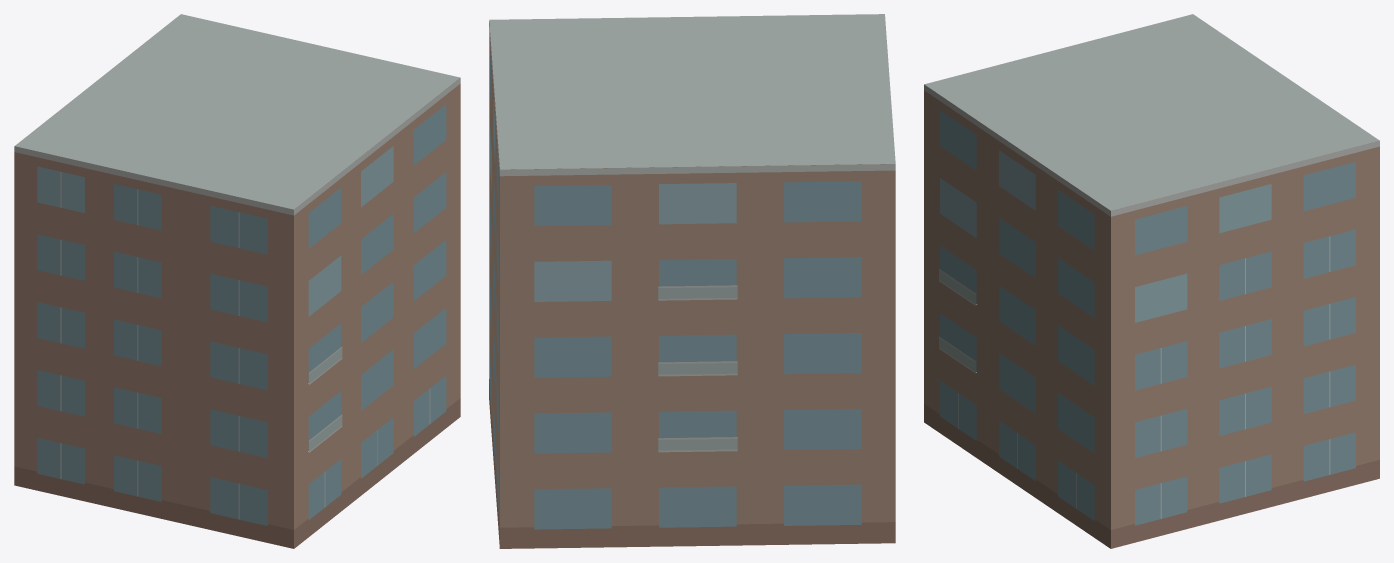
File: survey-upis-32575001.glb
3 renders of one model, left to right at view 1: azimuth 30°, elevation 25°; view 2: azimuth 150°, elevation 25°; view 3: azimuth 270°, elevation 25°, orthographic. The views are drawn at different scales.
Parts seen in each view (by area): view 1: survey-upis-32575001.tmp; view 2: survey-upis-32575001.tmp; view 3: survey-upis-32575001.tmp.
Boxes of the visible parts, left/top/right/bottom form: survey-upis-32575001.tmp: left=14, top=14, right=460, bottom=548; survey-upis-32575001.tmp: left=489, top=14, right=895, bottom=548; survey-upis-32575001.tmp: left=924, top=14, right=1379, bottom=548.
Size of the model in its own units: 17.49 by 14 by 17.12.
